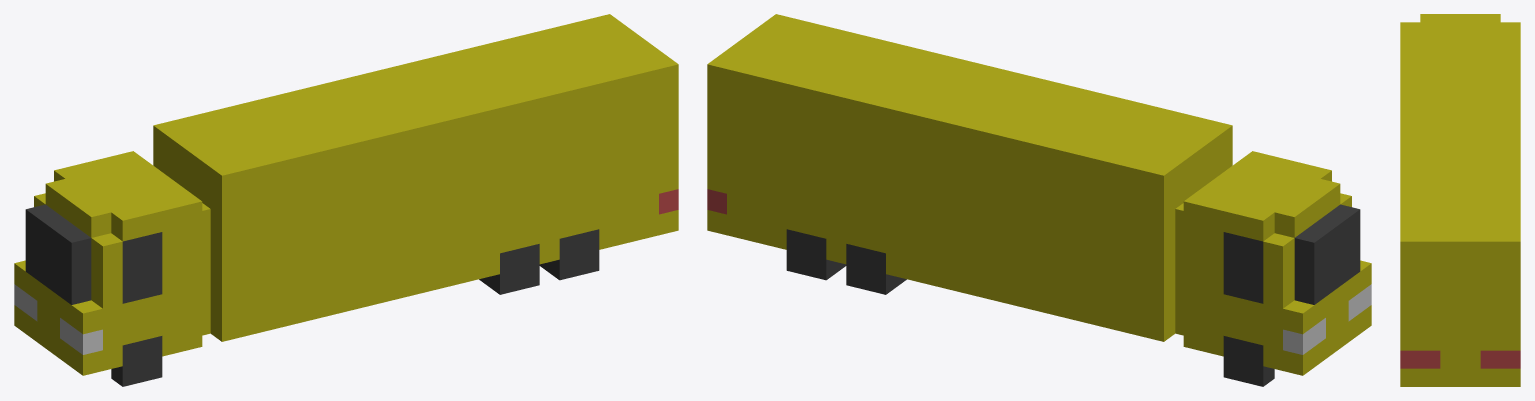
The model's file is truck-v4-yellow.gltf.
3 views of the same model, side by side, from view 1: azimuth 30°, elevation 25°; view 2: azimuth 150°, elevation 25°; view 3: azimuth 270°, elevation 25° (orthographic). The views are drawn at different scales.
Visible parts, largest first — view 1: model, wheels; view 2: model, wheels; view 3: model.
Part boxes in pixels (x1,y1,x2,y2): model: (14, 14, 678, 375); wheels: (111, 229, 599, 386); model: (707, 14, 1371, 375); wheels: (786, 229, 1274, 386); model: (1400, 14, 1520, 386).
Bounding box in the file's own units: 3 × 0.9 × 0.6.
Materials: 2 (2 with a texture image).
